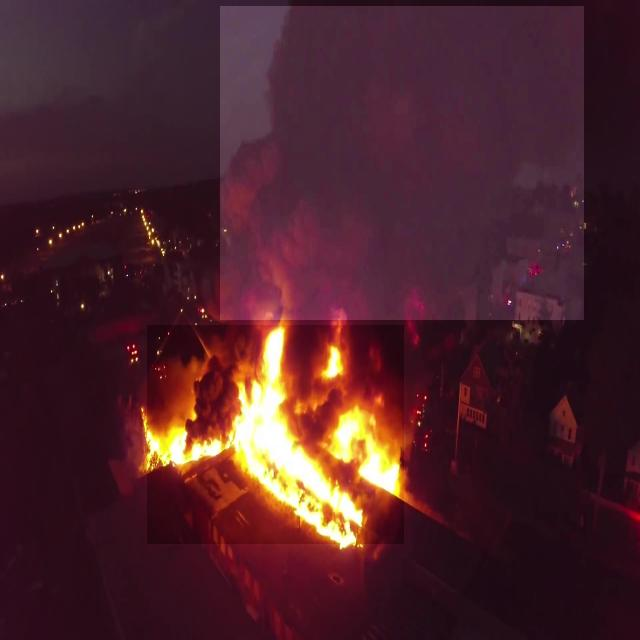Fire: (147, 325, 404, 544)
Smoke: (220, 6, 584, 320)
